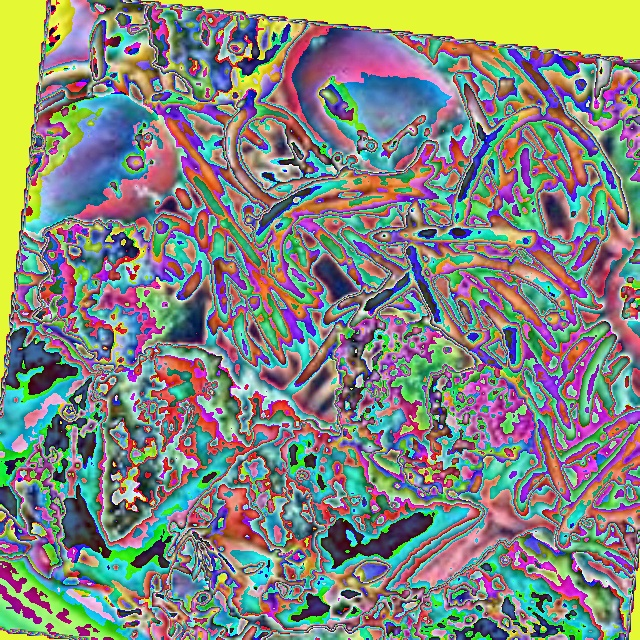background: (0, 3, 640, 639)
